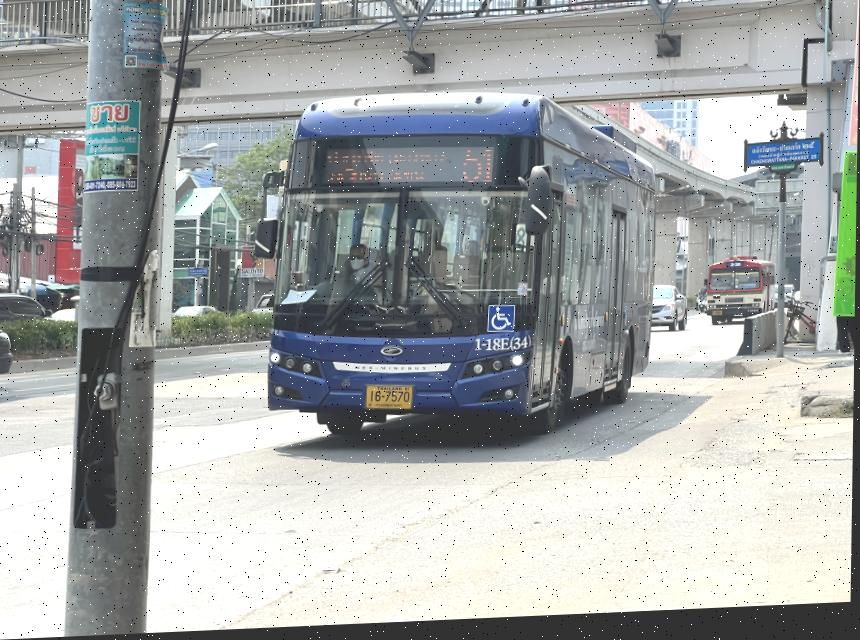BMTA-bus: (703, 262, 778, 334)
Bus Line Number: (454, 145, 508, 192), (727, 268, 746, 273)
Bus Side Number: (470, 338, 534, 358), (748, 315, 760, 320)
Destination Sign: (321, 144, 450, 195), (740, 290, 759, 297)
TSB-Bus: (258, 98, 658, 439)
